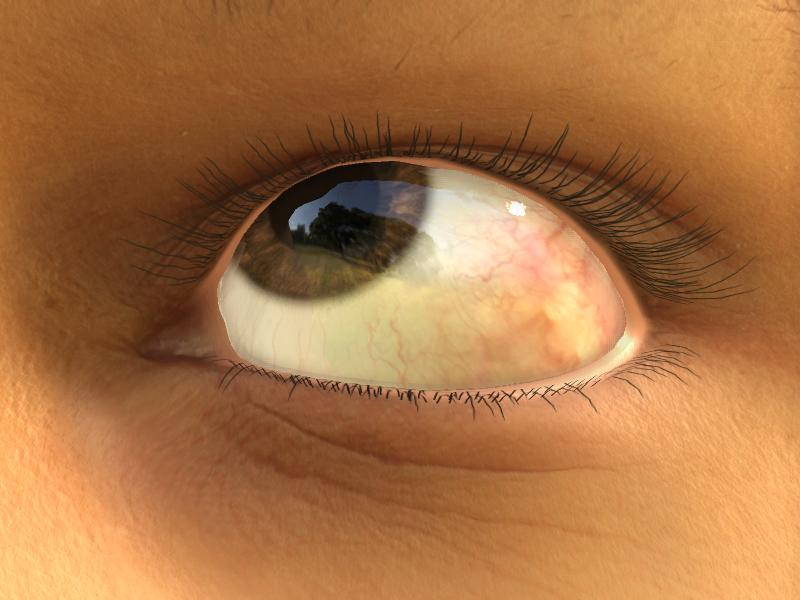eye: (231, 161, 422, 298)
